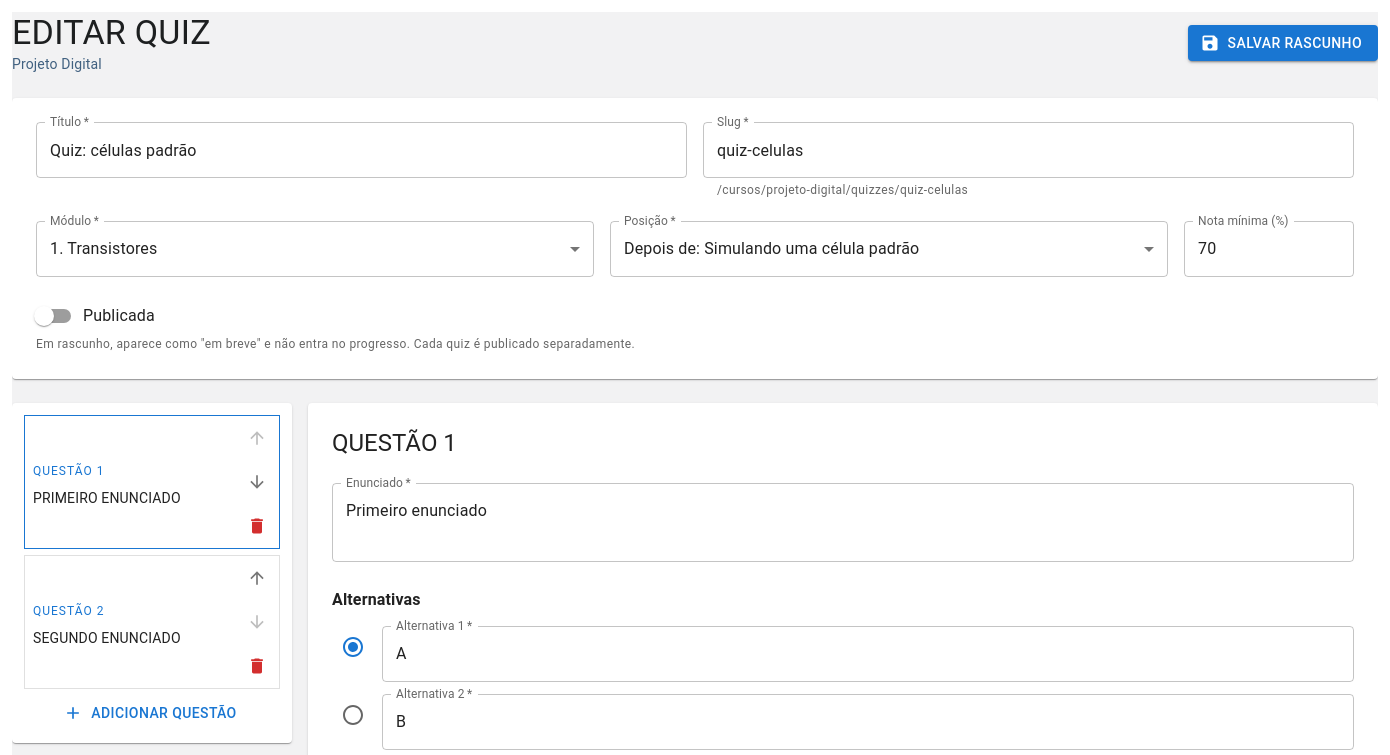
it: QuizForm › pede confirmação antes de excluir uma questão com conteúdo
Check: the text box showing "Primeiro enunciado" is shown, box left=346, top=499, right=1340, bottom=545
Click the button named "Excluir questão 1".
click(257, 526)  # box left=235, top=504, right=279, bottom=548
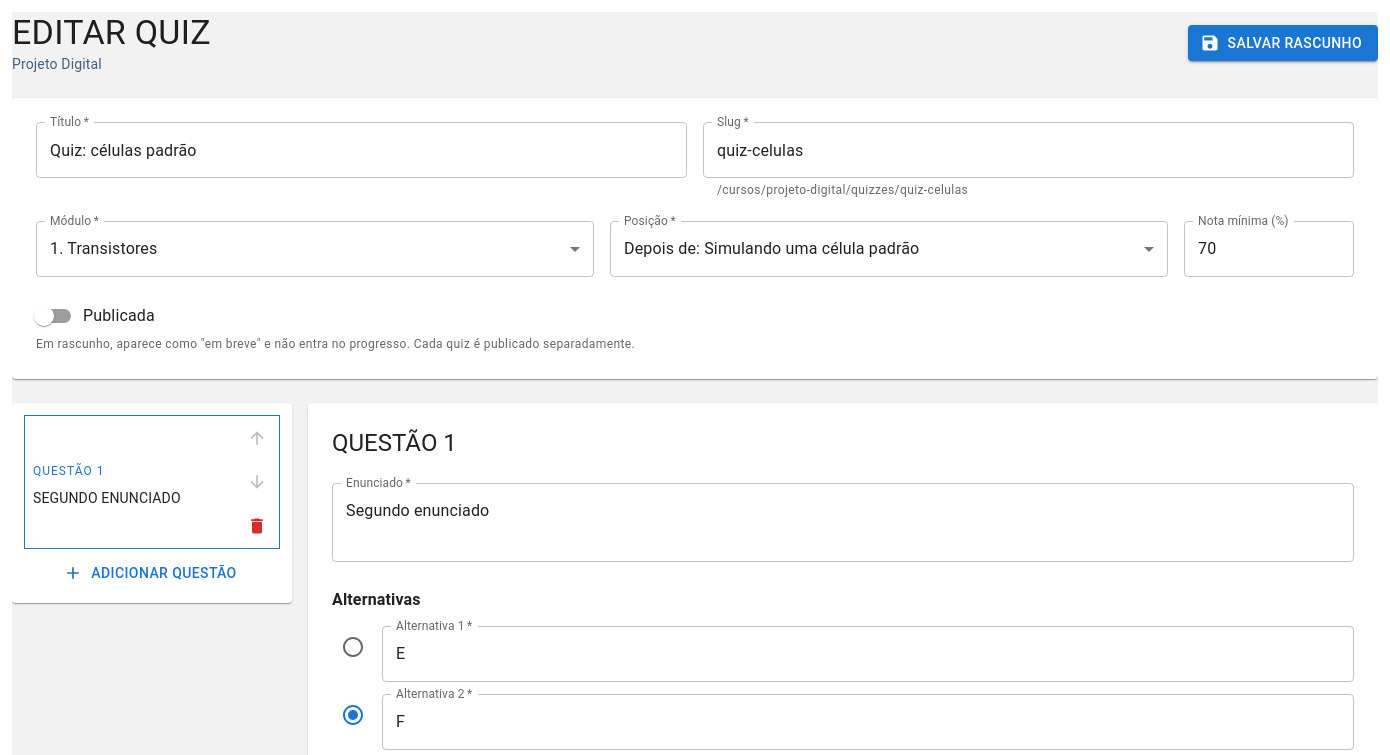
Check: the button "Primeiro enunciado" is gone
